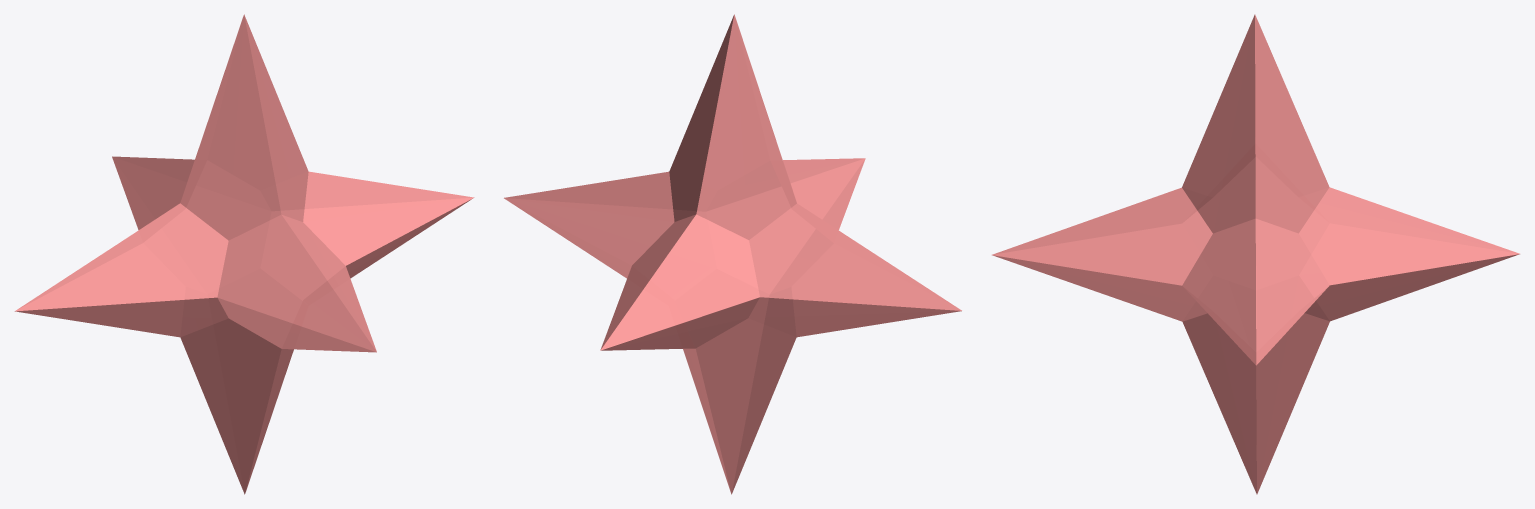
The model's file is octa_kites.obj.
The picture shows the model from 3 angles, left to right: view 1: azimuth 30°, elevation 25°; view 2: azimuth 150°, elevation 25°; view 3: azimuth 270°, elevation 25°; orthographic projection.
Size of the model in its own units: 14.7 by 14.71 by 14.7.
